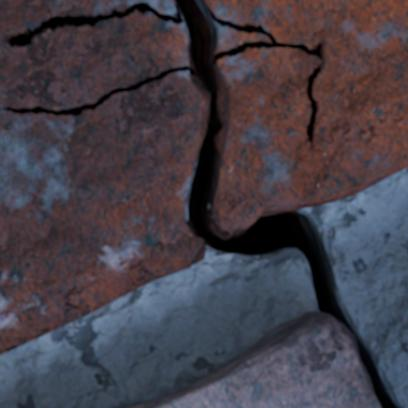brick: (127, 312, 380, 407)
broken_brick: (0, 72, 207, 356), (211, 0, 407, 233), (0, 0, 187, 109)
crack: (0, 0, 405, 407)
